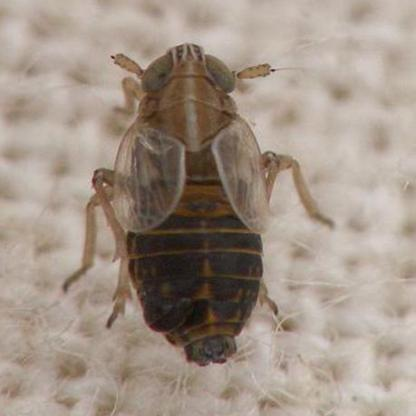brown-planthopper: (103, 39, 268, 366)
